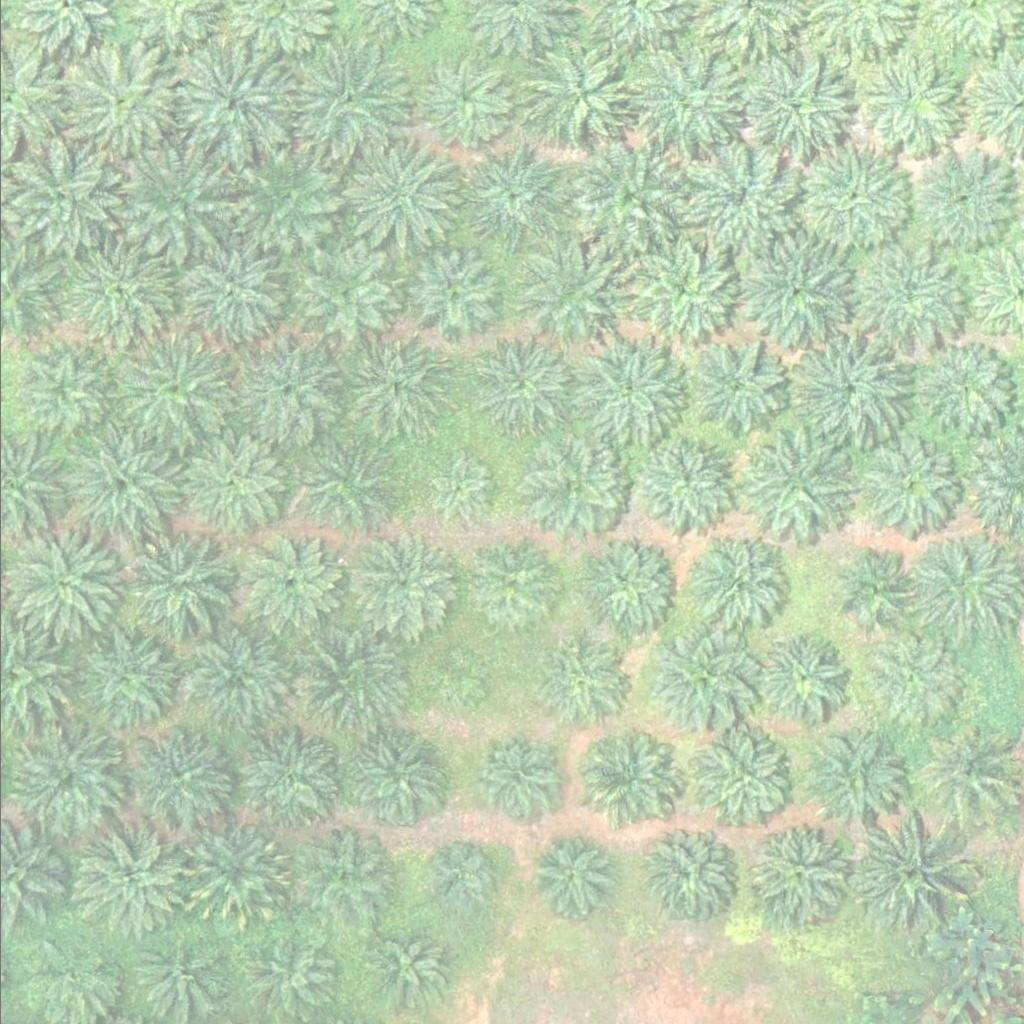Kelapa_Sawit: (906, 529, 1020, 642), (685, 721, 799, 834), (646, 619, 760, 732), (232, 138, 346, 251), (296, 44, 410, 157), (122, 145, 236, 258), (907, 140, 1020, 253), (853, 243, 966, 356), (743, 235, 856, 348), (177, 817, 290, 930), (336, 720, 449, 833), (568, 336, 681, 449), (622, 237, 735, 350), (623, 48, 736, 161), (524, 39, 637, 152), (175, 44, 288, 157), (62, 45, 175, 158), (3, 140, 116, 253), (124, 334, 237, 447), (64, 431, 177, 544), (3, 525, 116, 638), (73, 821, 186, 934), (852, 427, 966, 539), (171, 233, 285, 345), (63, 241, 177, 353), (850, 819, 963, 931), (736, 51, 849, 163), (793, 139, 906, 251), (681, 140, 794, 252), (800, 331, 913, 443), (735, 429, 848, 541), (792, 724, 905, 836), (228, 721, 341, 833), (299, 622, 412, 734), (177, 620, 290, 732), (227, 332, 340, 444), (511, 239, 624, 351), (571, 142, 684, 254), (459, 138, 572, 250), (347, 140, 460, 252), (123, 528, 236, 640), (70, 618, 183, 730), (7, 720, 120, 832), (914, 729, 1015, 829), (861, 52, 962, 152), (683, 337, 784, 437), (748, 823, 849, 923), (292, 825, 393, 925), (529, 636, 630, 736), (580, 534, 681, 634), (461, 538, 562, 638), (353, 530, 454, 630), (242, 530, 343, 630), (635, 434, 736, 534), (523, 435, 624, 535), (297, 437, 398, 537), (181, 435, 282, 535), (474, 335, 575, 435), (341, 332, 442, 432), (397, 245, 498, 345), (294, 245, 395, 345), (127, 726, 228, 826), (918, 338, 1018, 438), (685, 527, 785, 627), (862, 629, 962, 729), (750, 626, 850, 726), (635, 825, 735, 925), (575, 726, 675, 826), (416, 49, 516, 149), (523, 830, 611, 918), (361, 925, 449, 1013), (12, 345, 100, 433), (471, 732, 559, 819), (840, 550, 916, 625), (417, 448, 492, 523), (428, 843, 491, 906), (425, 645, 488, 707)
